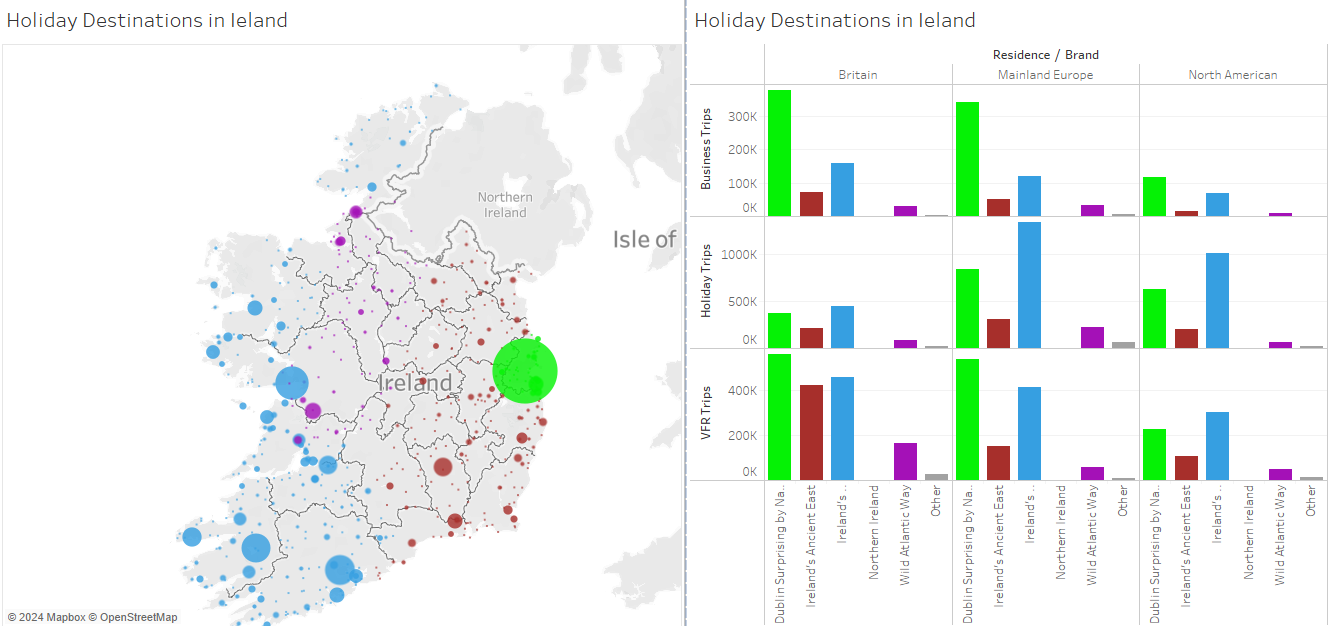

This screenshot's page, from the dashboard's own definition file:
{"tool":"tableau","page":{"name":"Holiday Destinations in Ieland Dashboard","canvas":[1366,768],"ordinal":0},"visuals":[{"type":"filter","title":"Holiday Destinations in Ireland","param":"[Clipboard_20230325T120419].[none:Calculation_1199083409079201792:nk]","box":[8,8,502.1,102]},{"type":"filter","title":"Holiday Destinations in Ireland","param":"[Clipboard_20230325T120419].[Town (group)]","box":[510.1,8,382.8,102]},{"type":"legend","title":"Holiday Destinations in Ireland","param":"[Clipboard_20230325T120419].[sum:Holiday Trips:qk]","box":[892.9,8,181.1,102]},{"type":"legend","title":"Holiday Destinations in Ireland","param":"[Clipboard_20230325T120419].[Town (group)]","box":[1074,8,284,102]},{"type":"worksheet","title":"Holiday Destinations in Ireland","mark":"Automatic","rows":["Latitude"],"cols":["Longitude"],"box":[16,118,688,634]},{"type":"worksheet","title":"Holiday Destinations in Ieland","mark":"Automatic","rows":["Business Trips","Holiday Trips","VFR Trips"],"cols":["Calculation_1199083409079201792"],"box":[704,118,646,634]}]}

Visuals, with their boxes on the page's 1366x768 design canvas (x1, y1, x2, y2). These are canvas units, not pixel positions in the 1328x626 screenshot, which may show the page scaled, cropped or inside an application window:
"Holiday Destinations in Ireland" filter: <region>8, 8, 510, 110</region>
"Holiday Destinations in Ireland" filter: <region>510, 8, 893, 110</region>
"Holiday Destinations in Ireland" legend: <region>893, 8, 1074, 110</region>
"Holiday Destinations in Ireland" legend: <region>1074, 8, 1358, 110</region>
"Holiday Destinations in Ireland" worksheet: <region>16, 118, 704, 752</region>
"Holiday Destinations in Ieland" worksheet: <region>704, 118, 1350, 752</region>
